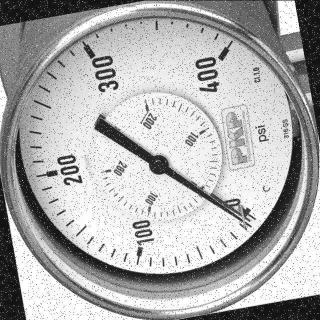gauge: (0, 0, 320, 320), (196, 34, 243, 85), (224, 196, 260, 230), (147, 153, 169, 175), (244, 220, 256, 232), (244, 214, 253, 224)
